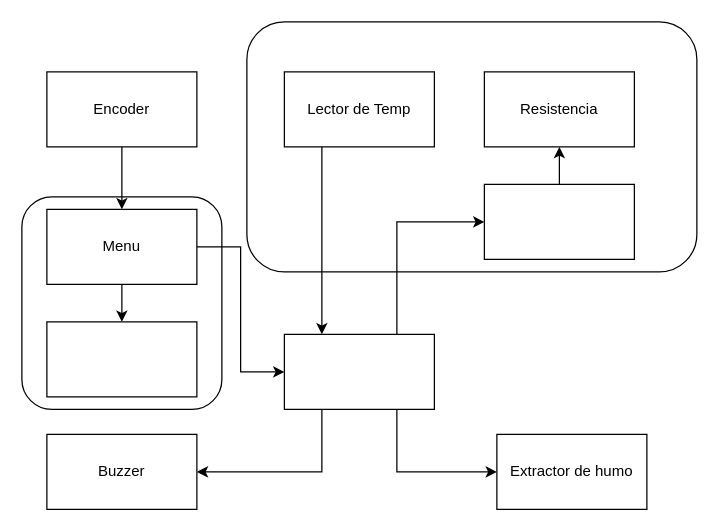
Image size: 719x531. Some labels were removed from this diagram. The box of each missing label's shape, as (x1, y1, x2, y2) in pixels:
Display: (46, 321, 197, 397)
Main: (283, 333, 434, 409)
PID: (483, 183, 634, 259)
